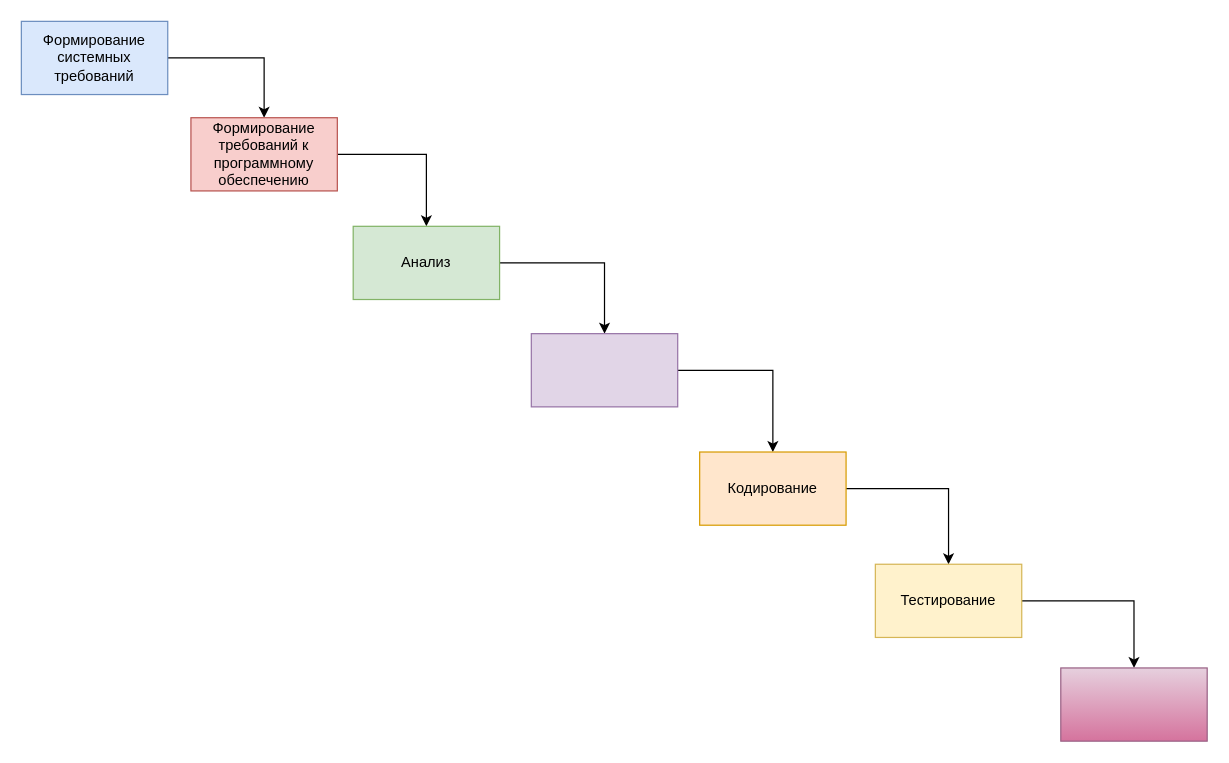
This 1229x763 diagram has some shape labels left out. The box of each missing label's shape, as (x1, y1, x2, y2) in pixels:
Проектирование: (530, 332, 678, 407)
Сопровождение и эксплуатация: (1060, 667, 1207, 741)
